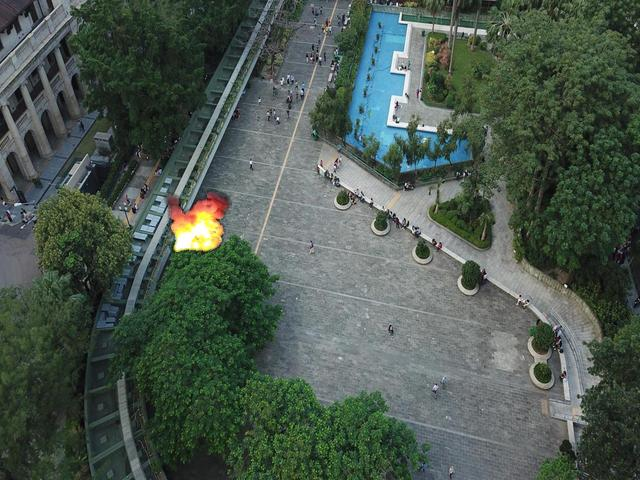fire: (164, 190, 229, 253)
